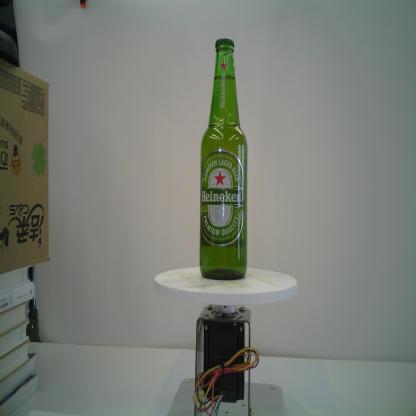Alcohol: (197, 34, 250, 280)
